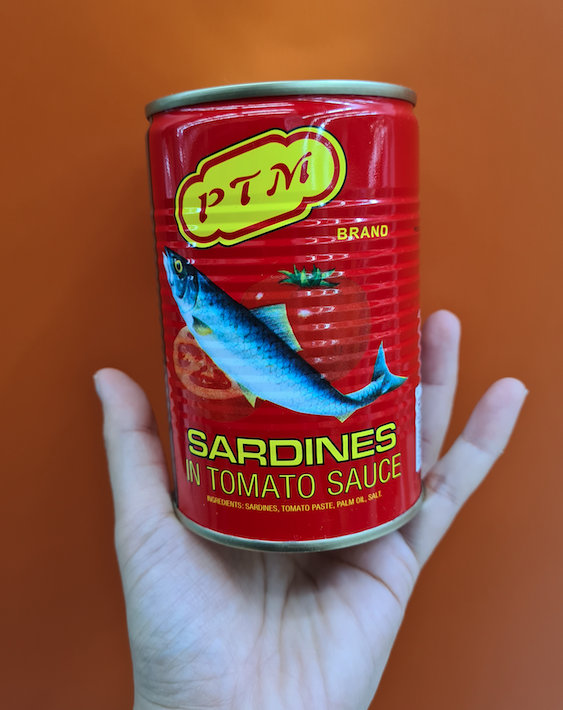Canned_Sardines_and_Mackerel: (157, 96, 412, 517)
